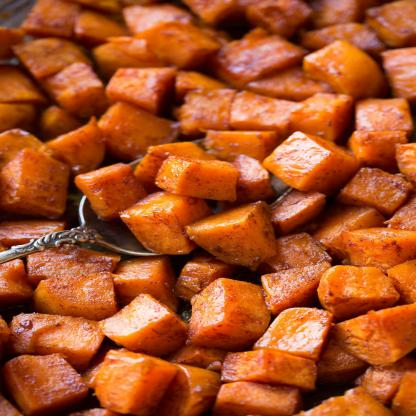---: (183, 3, 416, 178), (155, 151, 263, 221), (189, 281, 278, 350)
